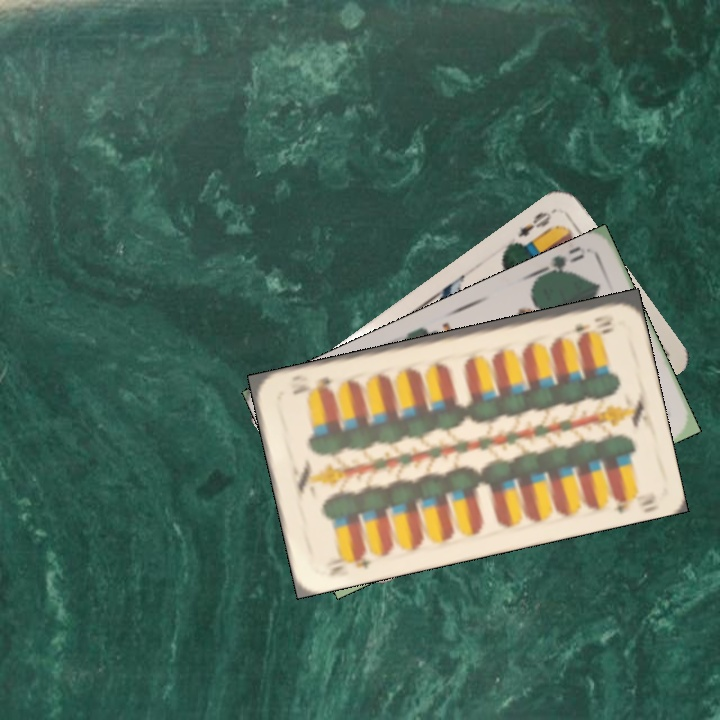E10: (324, 547, 374, 579), (570, 310, 616, 336)
EO: (513, 205, 558, 241)
GO: (533, 250, 587, 279)
